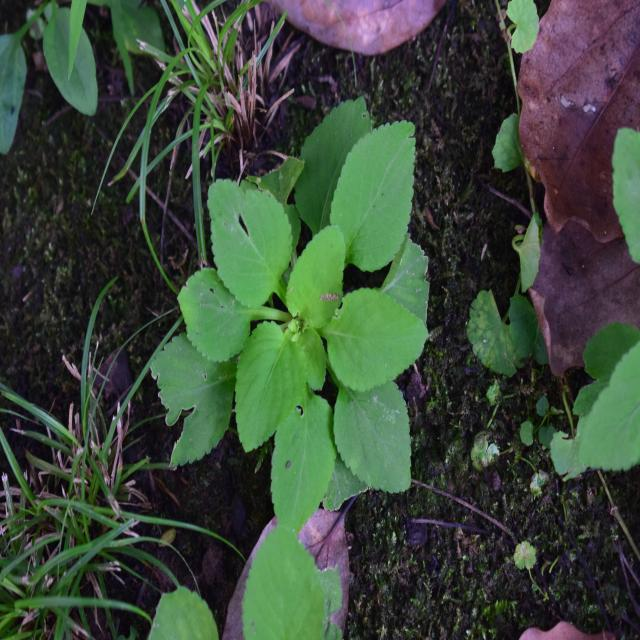Viola: (153, 148, 459, 508)
